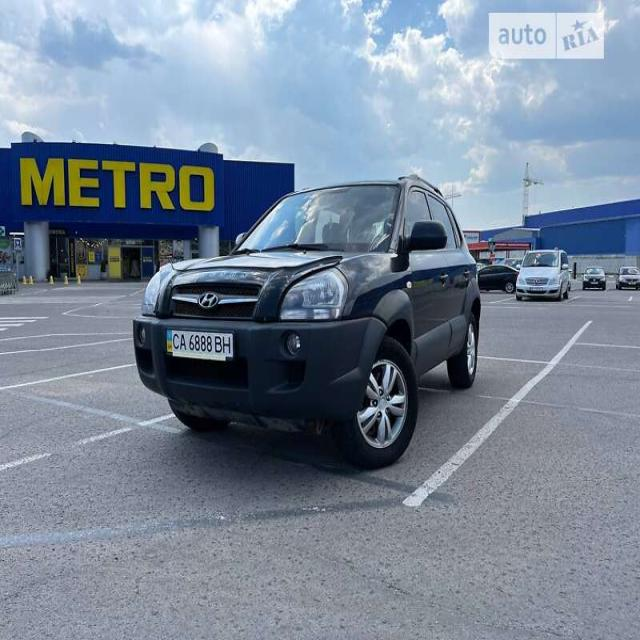plate: (163, 324, 240, 367)
